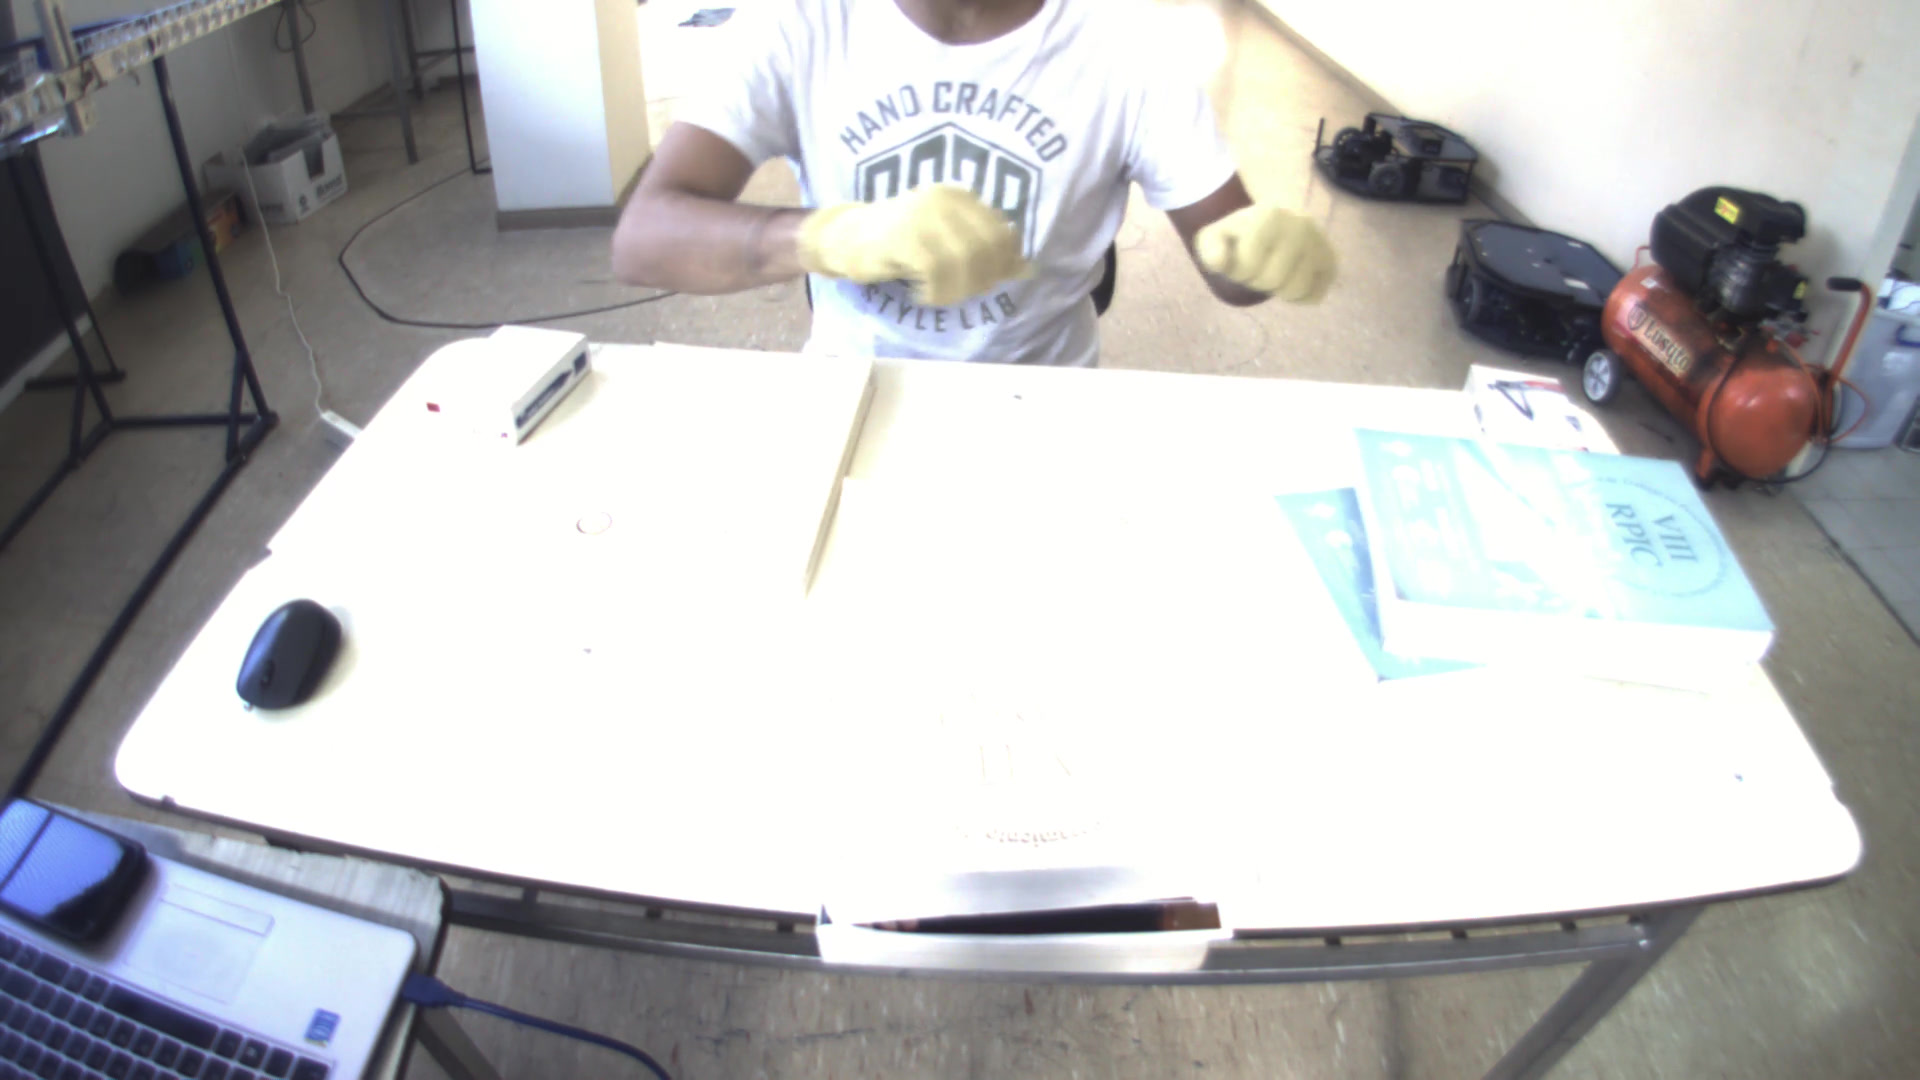hand: (791, 169, 1035, 305), (1196, 186, 1356, 301)
